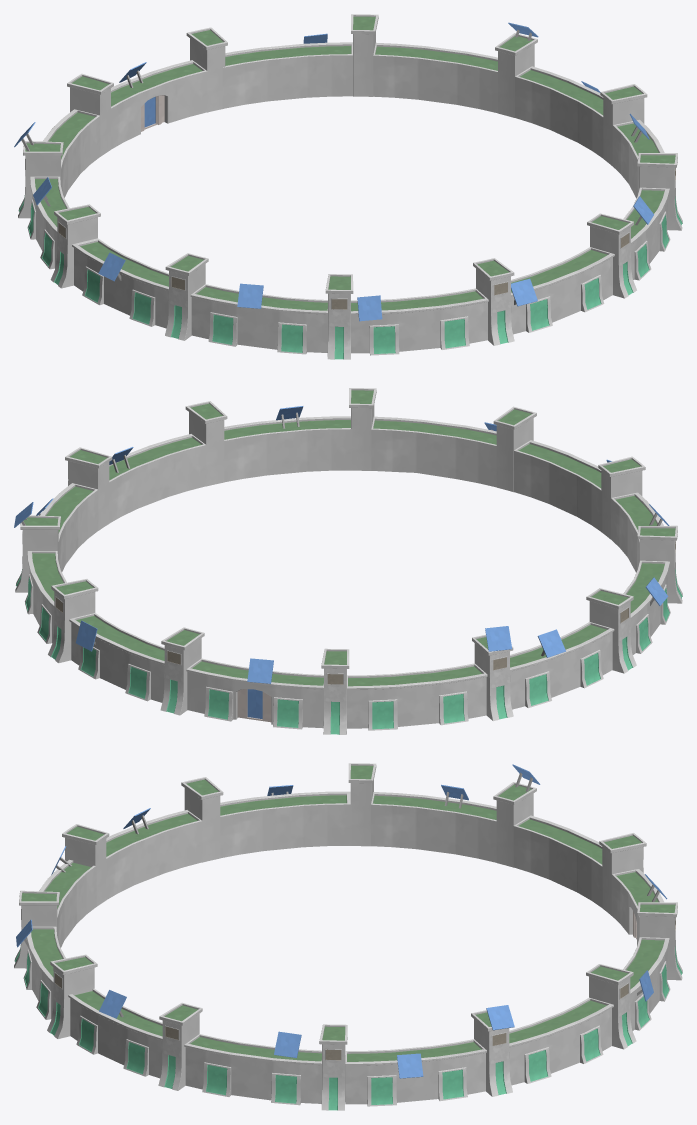
File: Sur.fbx
3 views of the same model, one above another, from view 1: azimuth 30°, elevation 25°; view 2: azimuth 150°, elevation 25°; view 3: azimuth 270°, elevation 25° (orthographic).
Visible parts, largest first — view 1: Sur; view 2: Sur, Kapı_L; view 3: Sur.
Part boxes in pixels (box(x1,y1,x2,y2)): Sur: box(14, 14, 682, 359); Sur: box(14, 388, 682, 734); Kapı_L: box(237, 689, 255, 719); Sur: box(14, 763, 682, 1110).
Size of the model in its own units: 115 by 16.53 by 115.
